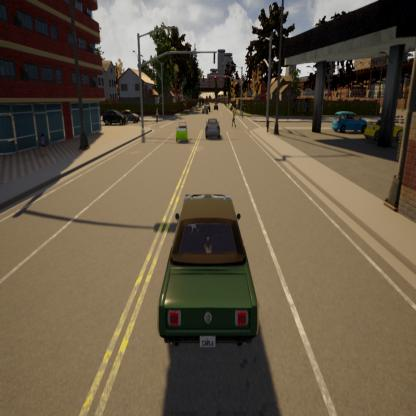Cars: (148, 184, 260, 359), (368, 117, 408, 144), (330, 110, 370, 134), (99, 107, 127, 128), (174, 115, 190, 151), (204, 116, 223, 144), (123, 108, 141, 124)
Pedestrian: (154, 101, 162, 125), (230, 105, 237, 130)
